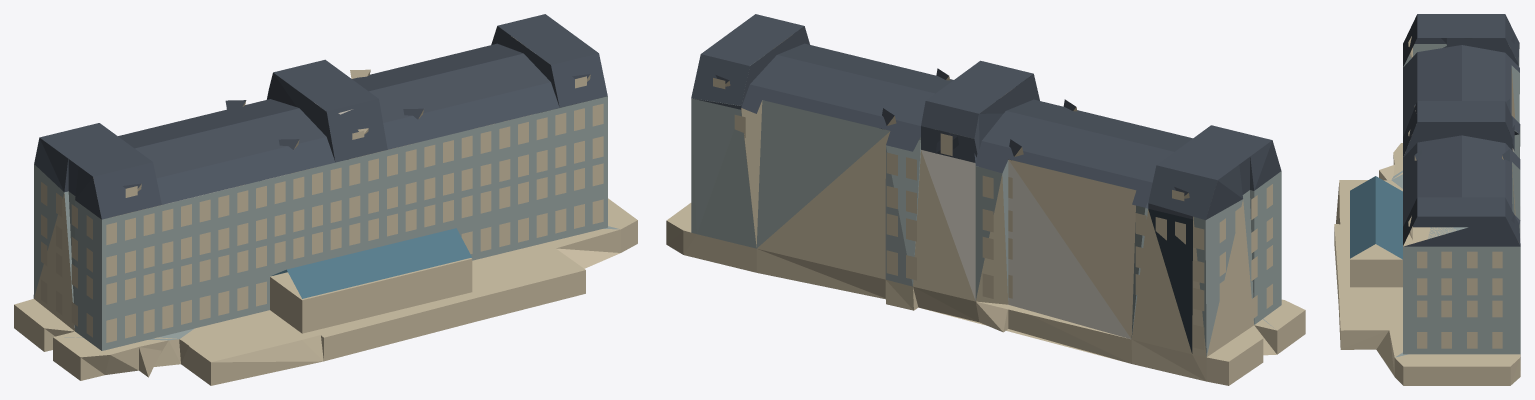
Rendered from amstel-hotel.lod2.glb.
3 views of the same model, side by side, from view 1: azimuth 30°, elevation 25°; view 2: azimuth 150°, elevation 25°; view 3: azimuth 270°, elevation 25° (orthographic). The views are drawn at different scales.
Parts seen in each view (by area): view 1: lod2; view 2: lod2; view 3: lod2.
Part boxes in pixels (bbox=[...]): lod2: bbox=[14, 14, 637, 385]; lod2: bbox=[666, 14, 1305, 385]; lod2: bbox=[1334, 14, 1520, 385].
Bounding box in the file's own units: 86.58 × 29.57 × 30.49.
